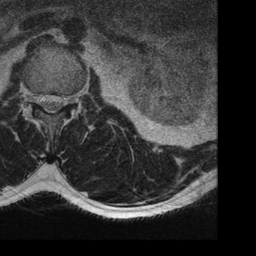CCS_normal: (47, 83, 56, 121)
LFS_normal: (64, 86, 74, 111)
LLS_normal: (55, 85, 64, 116)
RFS_normal: (28, 83, 38, 111)
RLS_normal: (38, 85, 46, 115)
